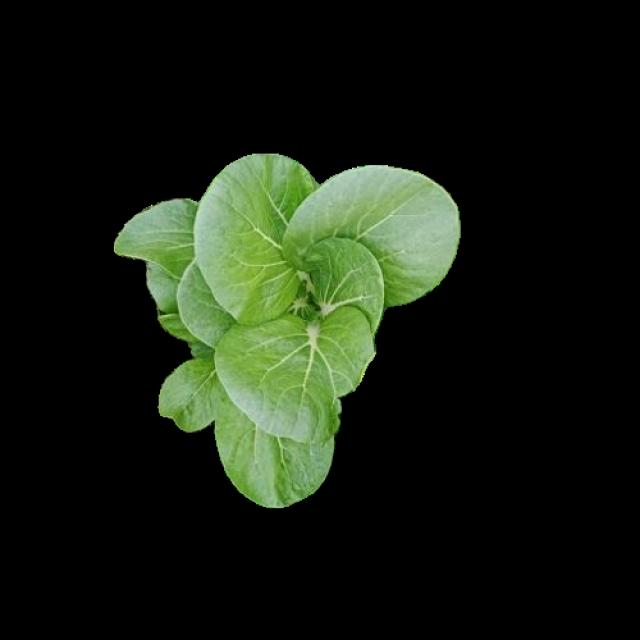healthy: (107, 155, 452, 505)
mature: (110, 158, 454, 508)
